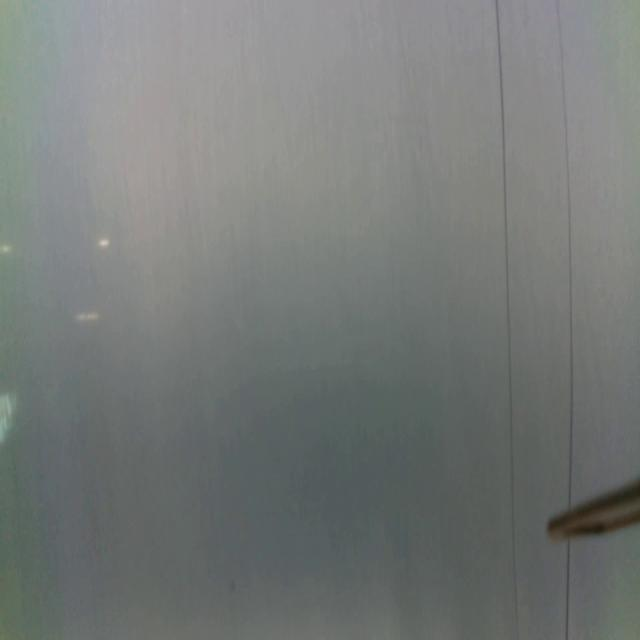crease: (495, 0, 520, 640), (555, 0, 576, 502), (562, 538, 573, 640)
